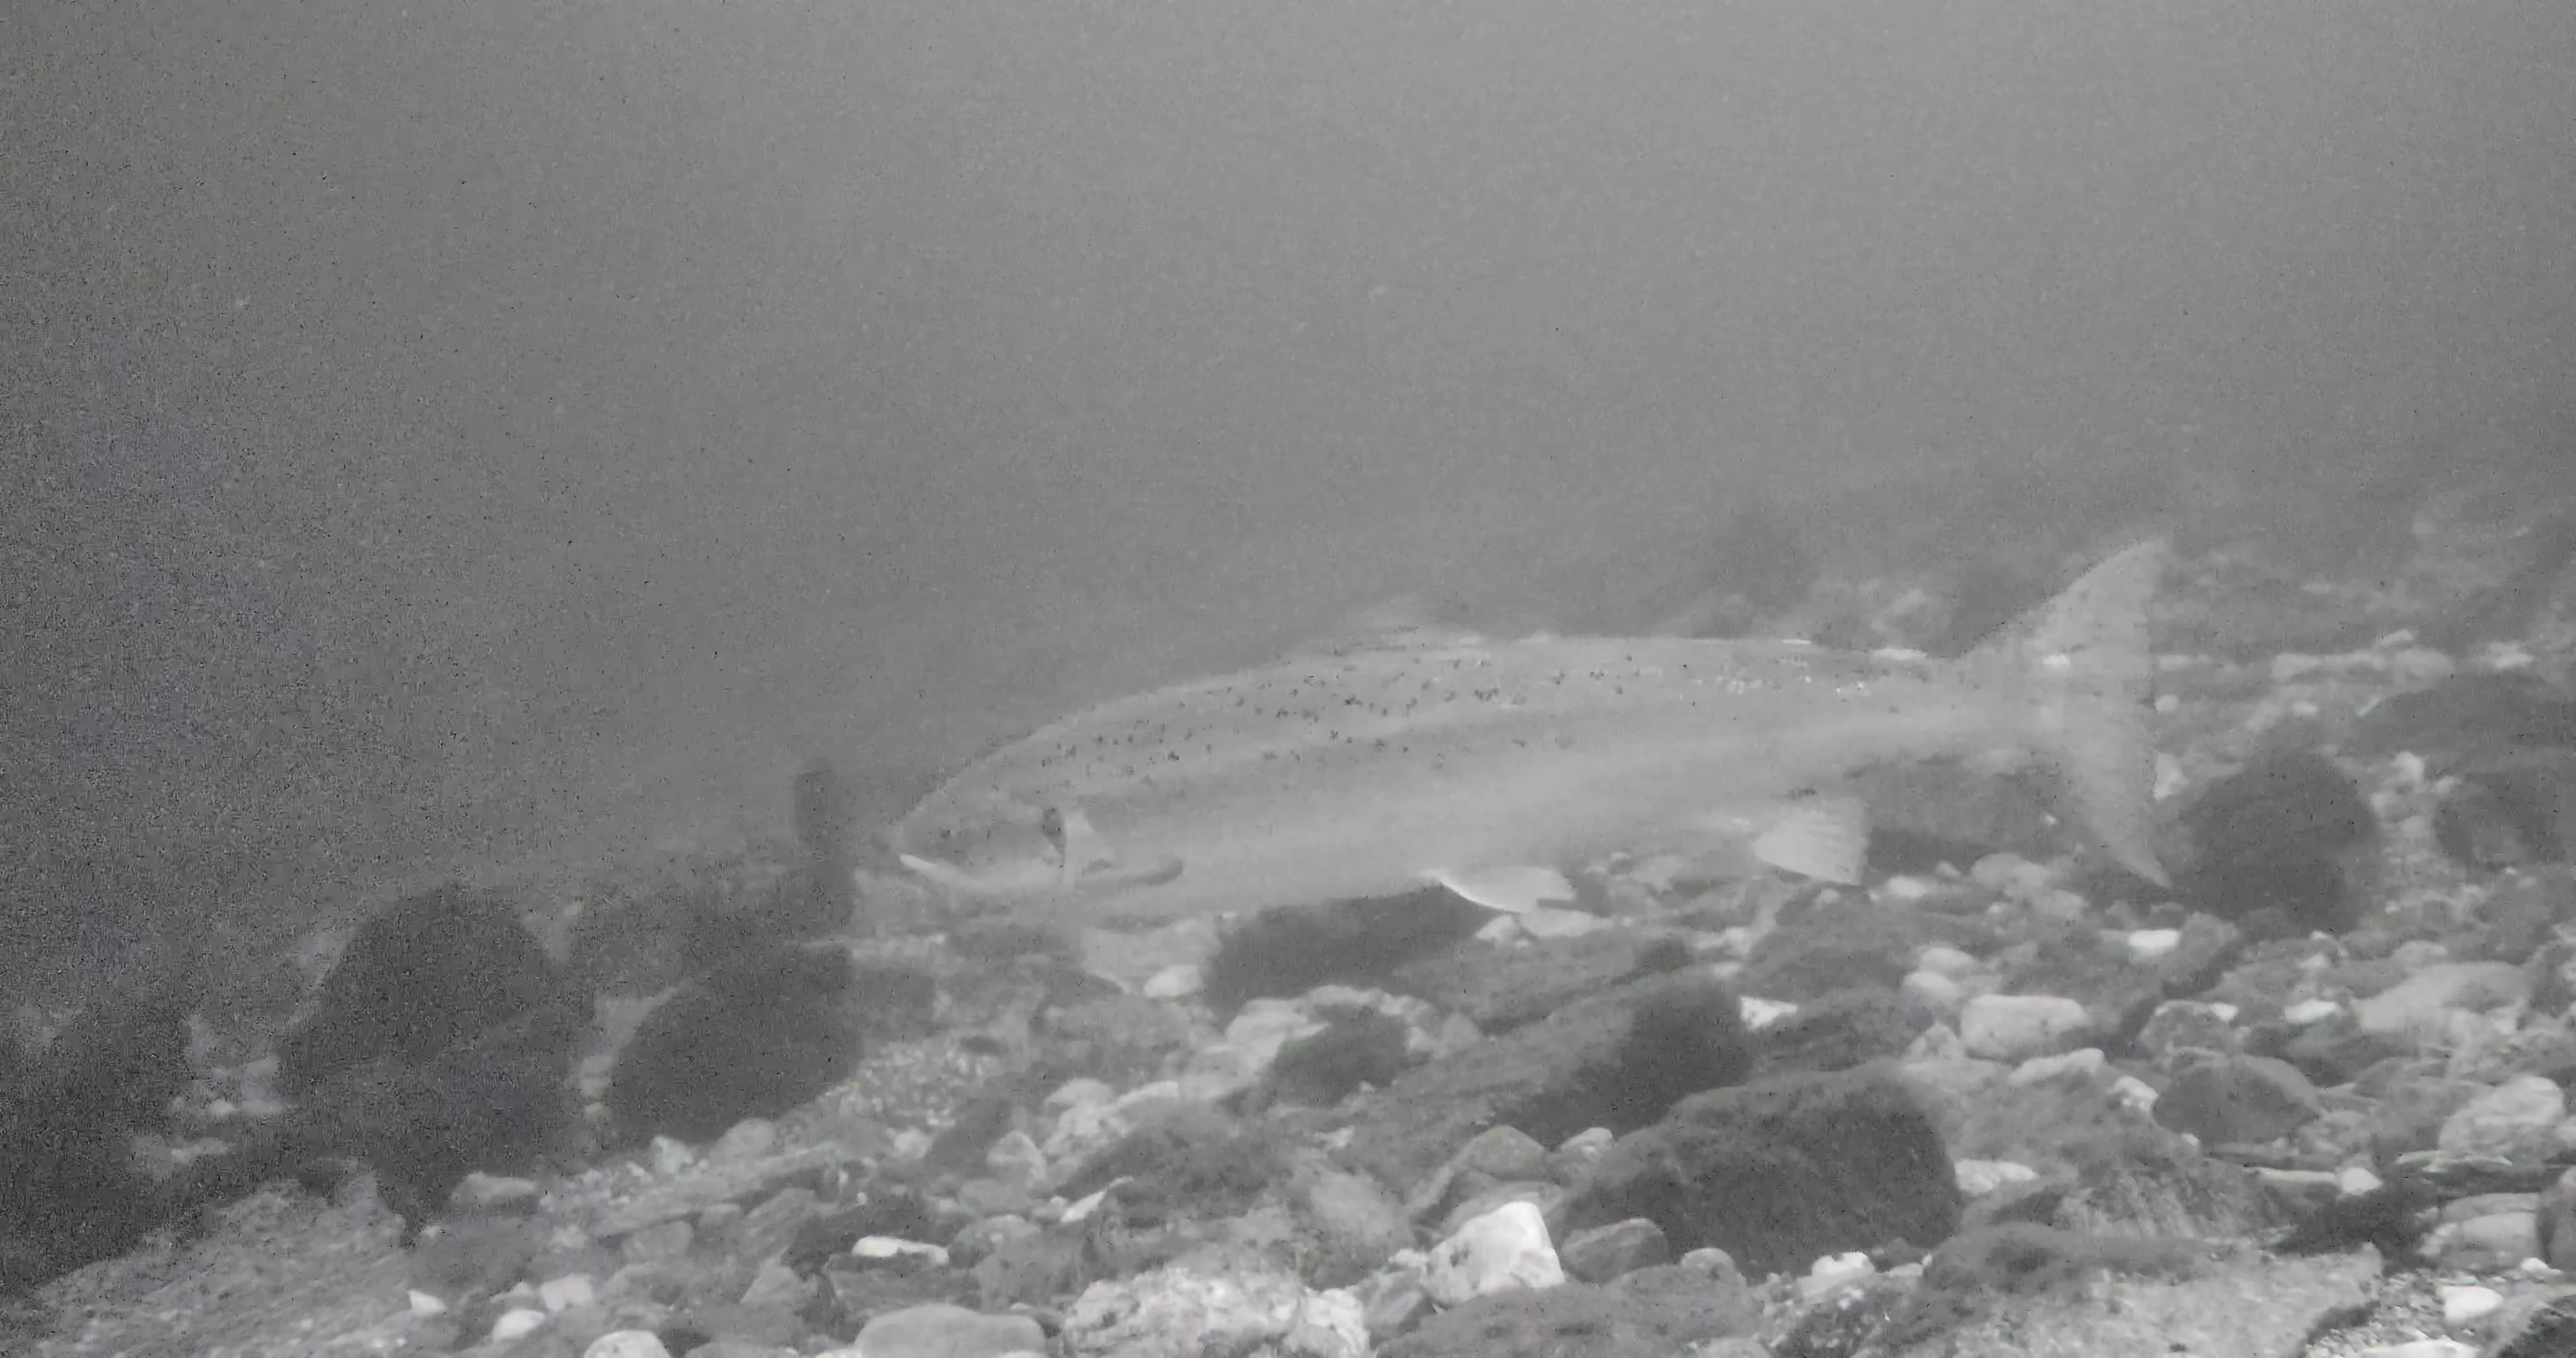salmon: (884, 530, 2176, 915)
